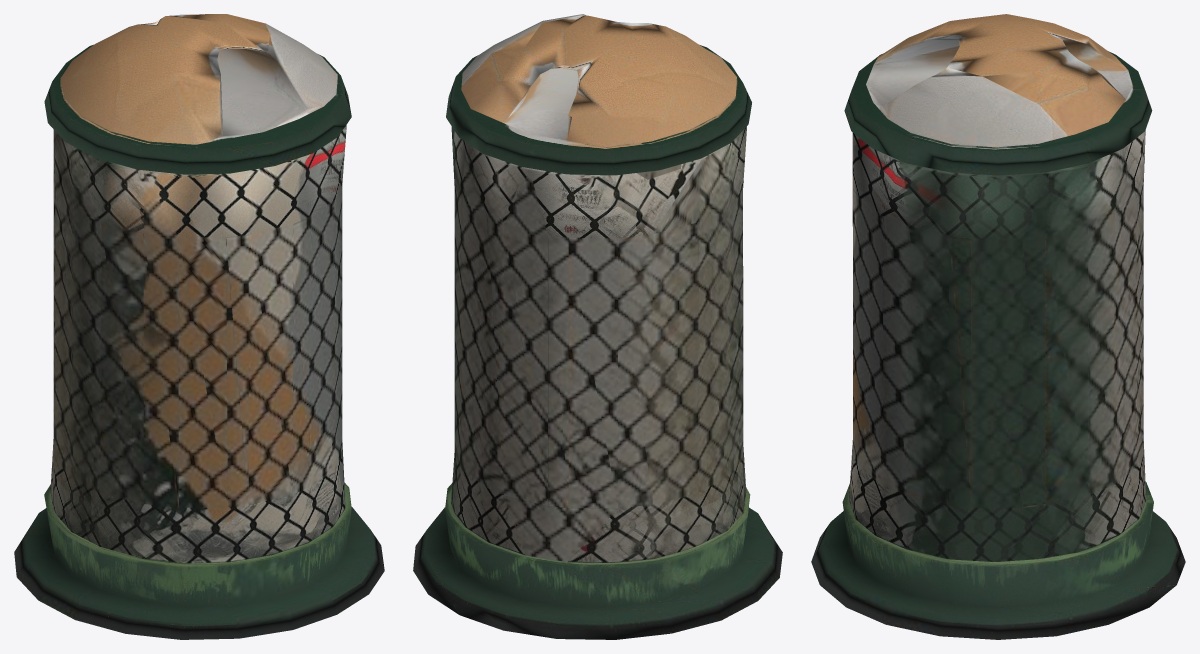
File: trash_can.glb
The picture shows the model from 3 angles, left to right: view 1: azimuth 30°, elevation 25°; view 2: azimuth 150°, elevation 25°; view 3: azimuth 270°, elevation 25°; orthographic projection.
Size of the model in its own units: 0.5703 by 0.9 by 0.5781.
Materials: 1 (1 with a texture image).
